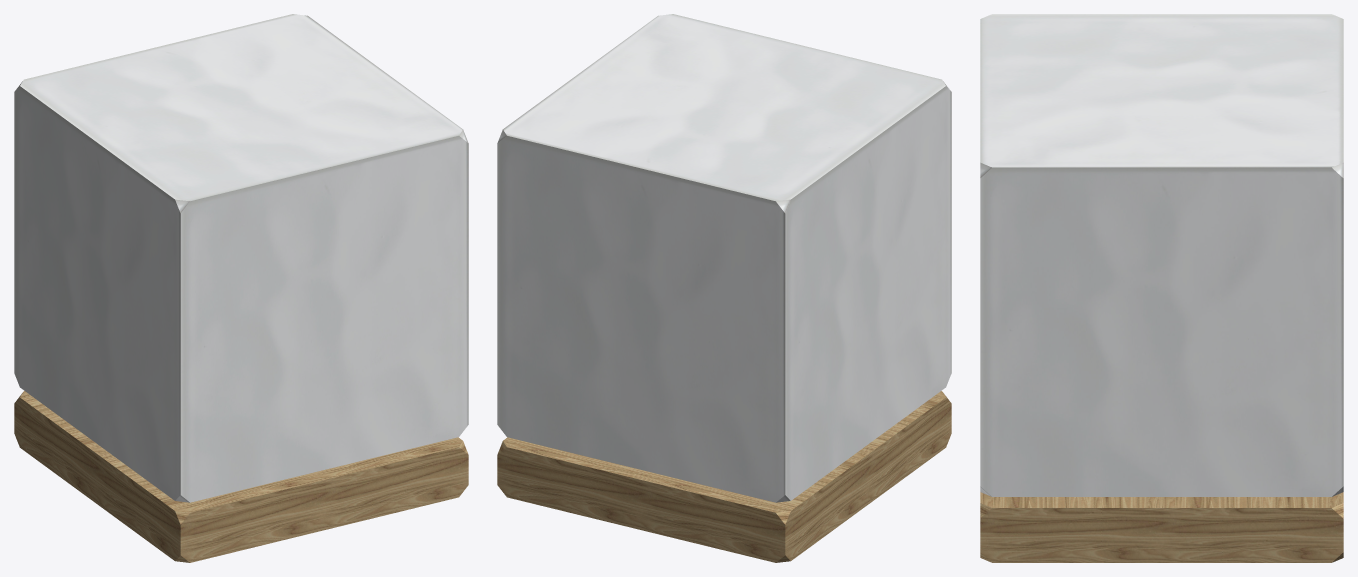
Rendered from Lamp001.FBX.
3 views of the same model, side by side, from view 1: azimuth 30°, elevation 25°; view 2: azimuth 150°, elevation 25°; view 3: azimuth 270°, elevation 25° (orthographic). The views are drawn at different scales.
Parts seen in each view (by area): view 1: Lamp001; view 2: Lamp001; view 3: Lamp001.
Boxes of the visible parts, x1,y1,x2,y2 form: Lamp001: [14, 14, 468, 562]; Lamp001: [497, 14, 951, 562]; Lamp001: [980, 14, 1343, 562].
Size of the model in its own units: 30 by 36 by 30.
